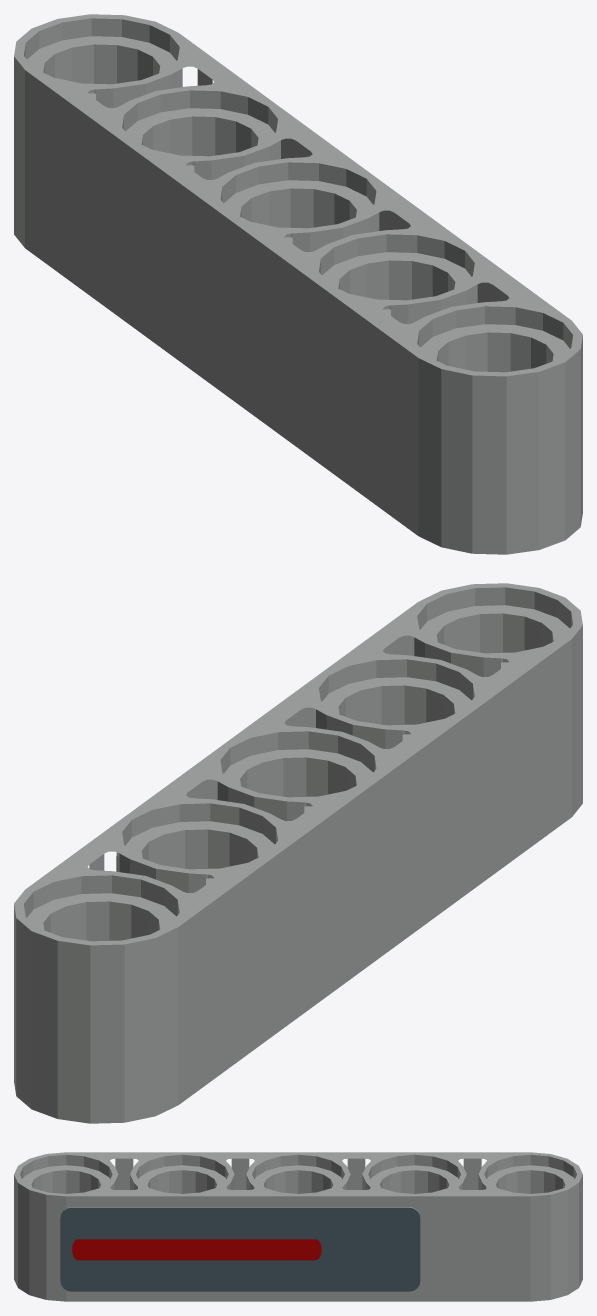
3 renders of one model, top to bottom at view 1: azimuth 30°, elevation 25°; view 2: azimuth 150°, elevation 25°; view 3: azimuth 270°, elevation 25°, orthographic. The views are drawn at different scales.
Parts seen in each view (by area): view 1: world; view 2: world; view 3: world.
Boxes of the visible parts, x1,y1,x2,y2 form: world: [14, 14, 582, 554]; world: [14, 583, 582, 1123]; world: [14, 1152, 582, 1301].
Size of the model in its own units: 0.0073 by 0.008 by 0.0392.
